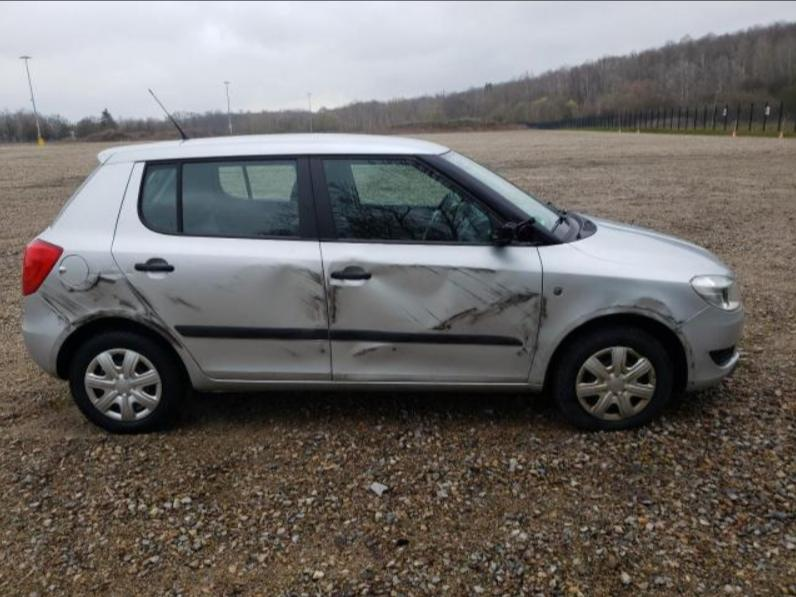Dent: (65, 275, 155, 327), (252, 259, 324, 323), (368, 264, 452, 300), (405, 285, 455, 329), (328, 258, 359, 290), (631, 295, 673, 318), (349, 337, 382, 352), (599, 297, 625, 314)
Missing part: (487, 209, 543, 246)
Paint chip: (584, 298, 693, 357), (541, 295, 548, 319), (690, 360, 696, 369), (690, 379, 695, 385)
Scratch: (426, 287, 541, 333), (127, 280, 185, 349), (420, 267, 486, 308), (37, 282, 91, 332), (667, 312, 696, 373), (142, 314, 182, 352), (453, 267, 502, 296), (62, 272, 117, 292), (300, 291, 327, 322), (519, 322, 536, 358), (110, 290, 139, 311), (168, 293, 198, 313), (399, 307, 424, 329), (486, 272, 511, 294), (294, 267, 323, 285), (60, 292, 87, 310), (421, 300, 442, 322), (327, 287, 338, 326), (86, 268, 136, 276), (355, 344, 383, 358), (422, 308, 442, 322), (284, 346, 301, 360), (523, 311, 537, 326), (541, 293, 548, 317), (389, 263, 409, 271), (389, 346, 398, 353), (536, 298, 541, 308), (318, 347, 326, 353)
